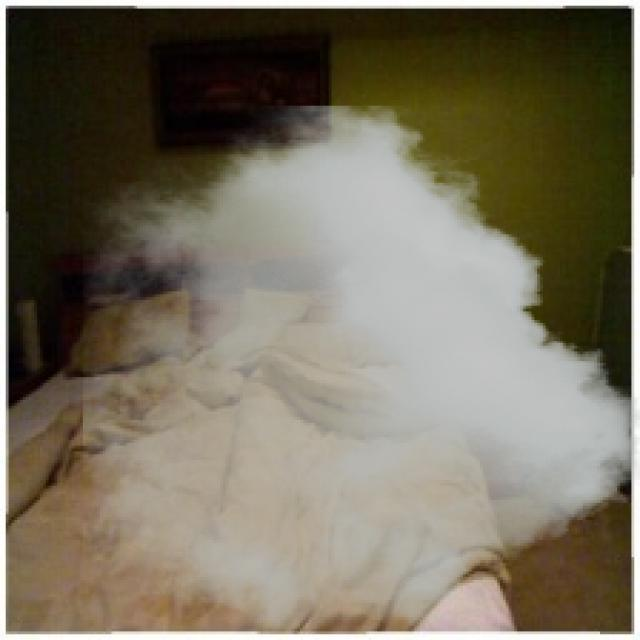Smoke: (82, 105, 638, 638)
